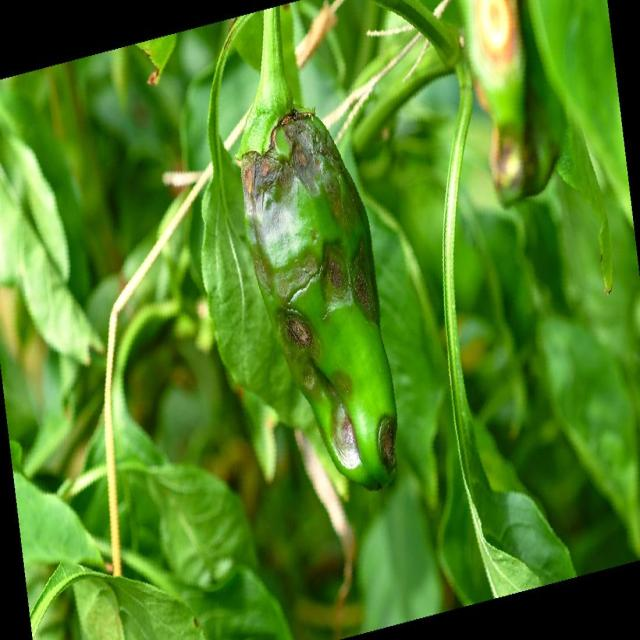Moko: (236, 78, 356, 211), (315, 231, 386, 330), (271, 292, 324, 370), (320, 401, 368, 478), (374, 398, 404, 482)
